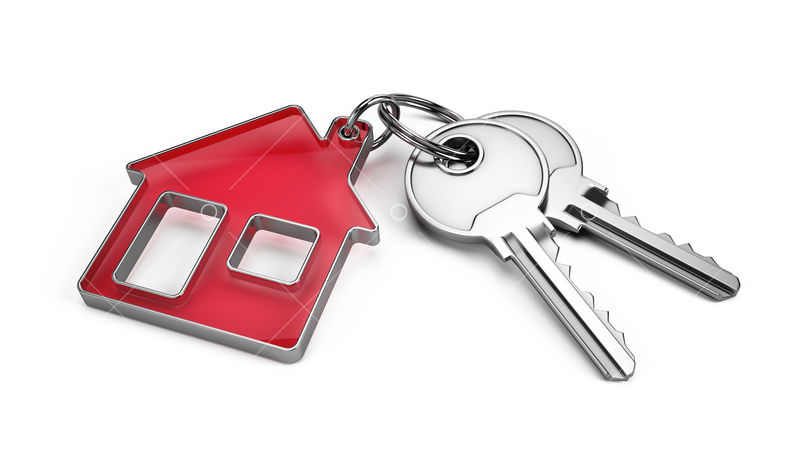key: (401, 111, 744, 382)
